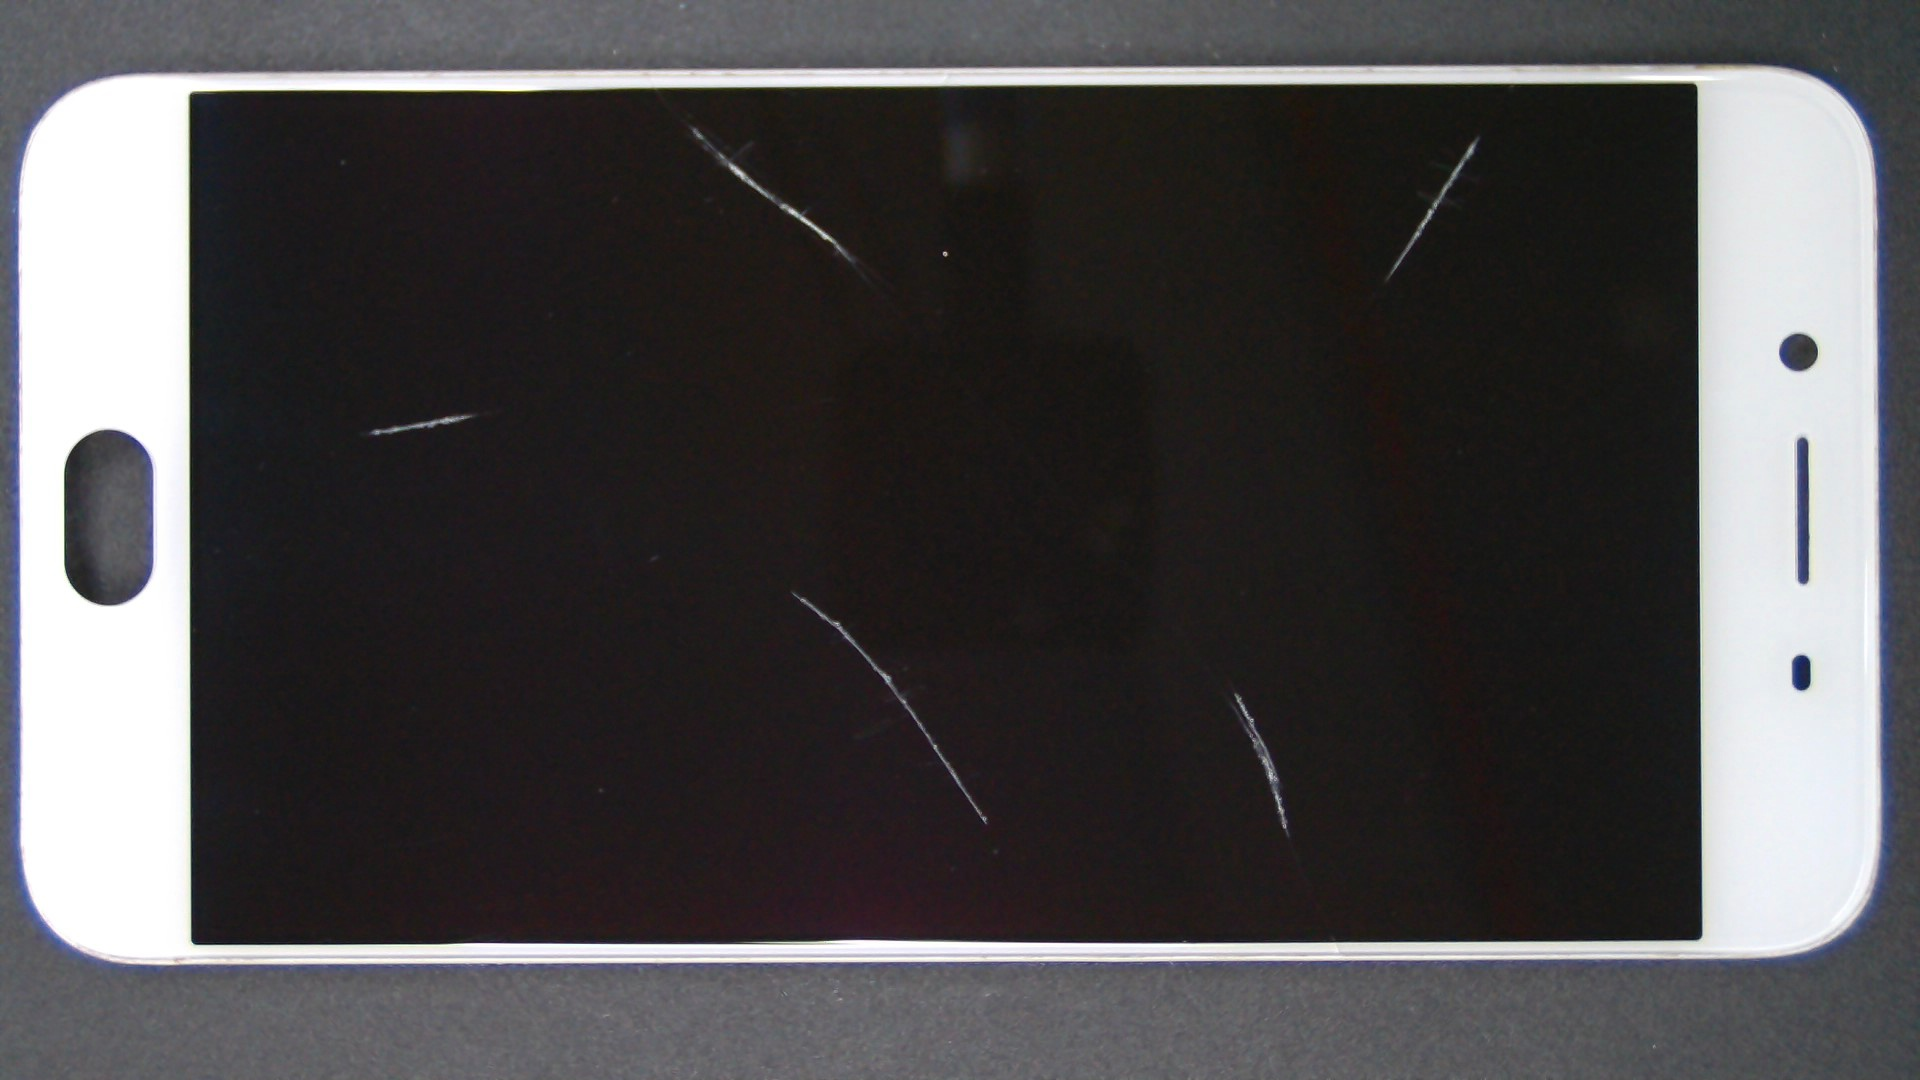oil: (620, 347, 1857, 1042), (397, 295, 1188, 887), (239, 206, 715, 618), (740, 66, 1920, 206), (345, 62, 1036, 190)
